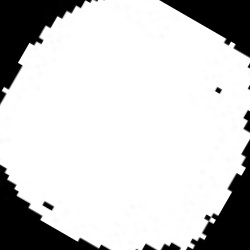spot: (2, 0, 249, 248)
